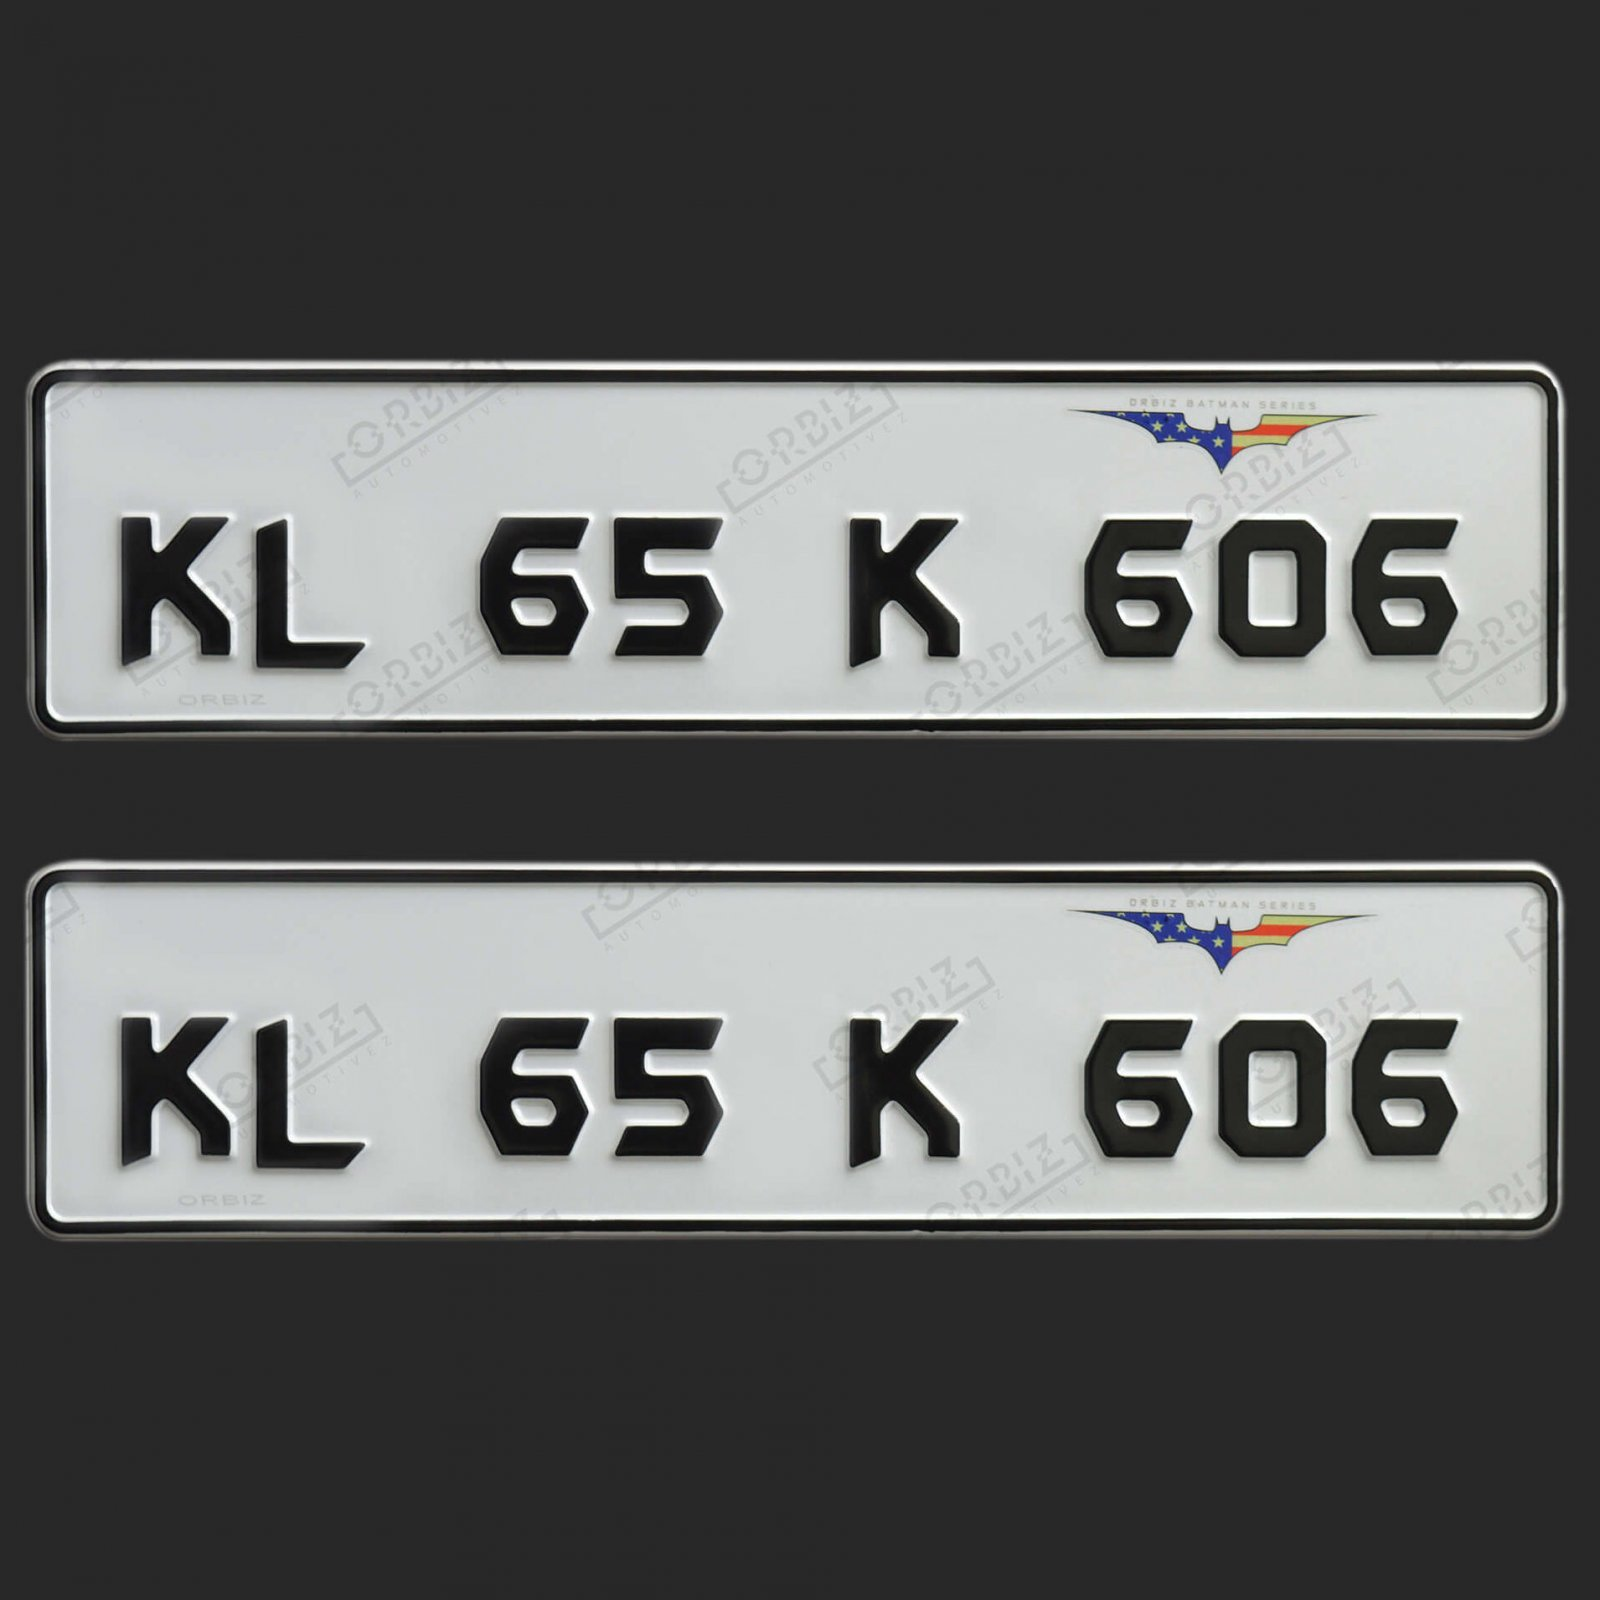number_plate: (24, 855, 1565, 1247), (37, 348, 1565, 742)
